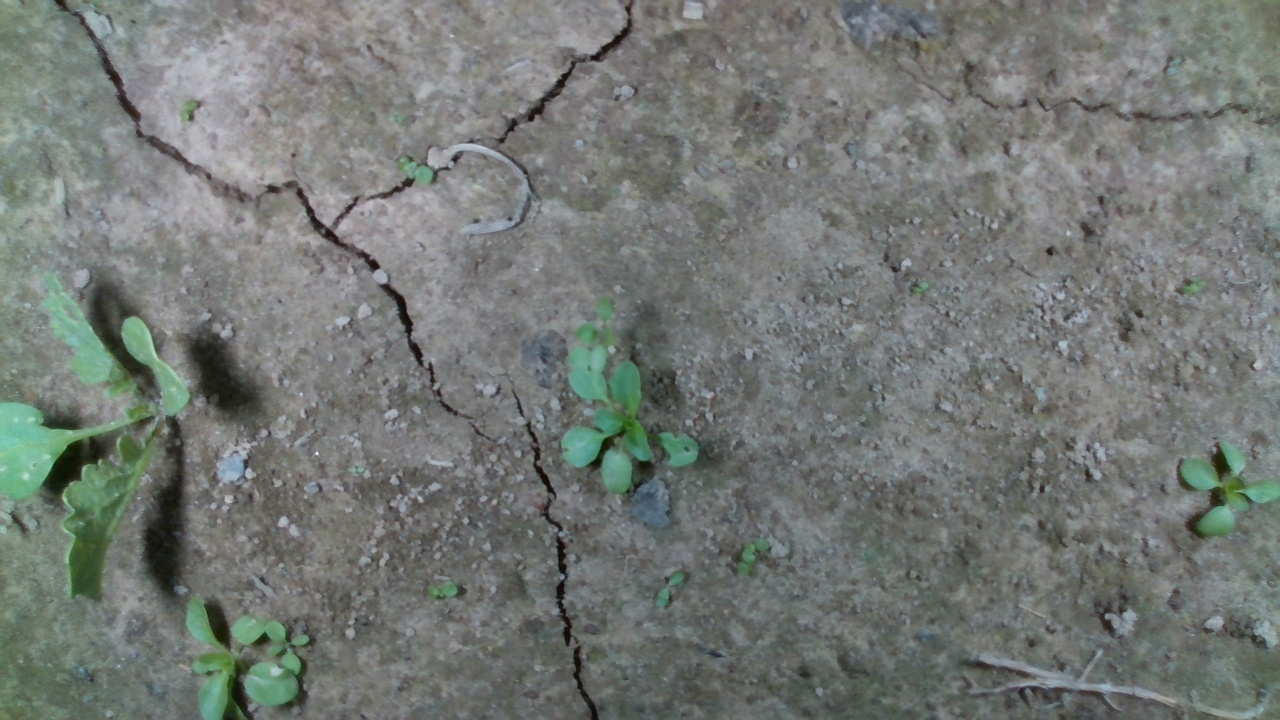weed: (651, 569, 686, 612), (394, 155, 434, 185), (425, 579, 458, 598), (177, 98, 198, 123), (911, 280, 929, 294)
